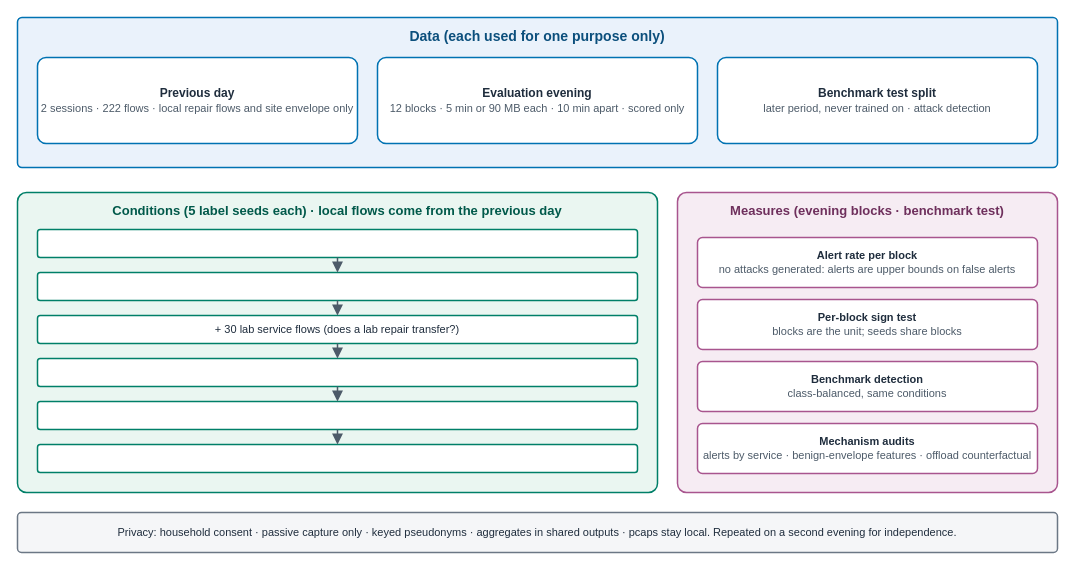
This 1076x571 diagram has some shape labels left out. Each missing label, with the centre of its shape:
"+ 30 local flows: port-spread · triaged · least confident" goes at point (337, 372).
"+ local anomaly rule: threshold · isolation forest · refit · exemplar envelope" goes at point (337, 415).
"All of the above again without port and TCP-window features" goes at point (337, 458).
"Few-shot: + k = 50 labelled target attacks per class" goes at point (337, 286).
"Source only (deployed model)" goes at point (337, 243).
